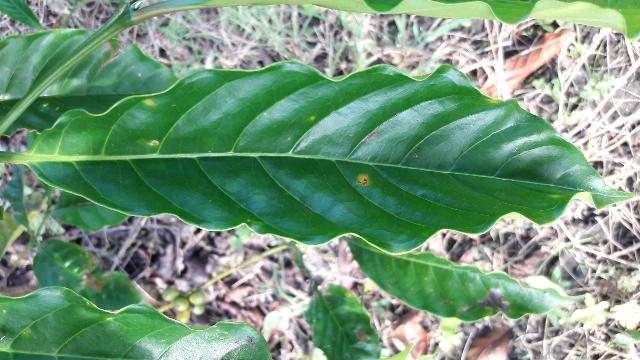rust_level_1: (20, 62, 634, 255)
